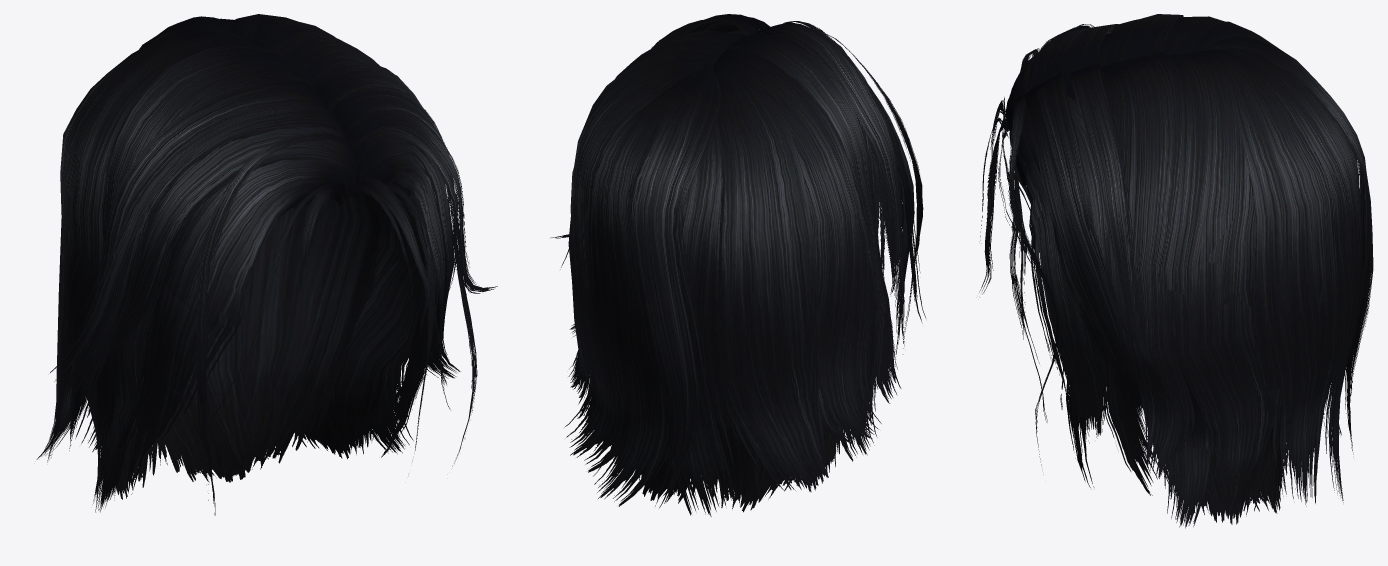
The model's file is haircut.fbx.
3 views of the same model, side by side, from view 1: azimuth 30°, elevation 25°; view 2: azimuth 150°, elevation 25°; view 3: azimuth 270°, elevation 25° (orthographic). The views are drawn at different scales.
Visible parts, largest first — view 1: Head; view 2: Head; view 3: Head.
Part boxes in pixels (x1,y1,x2,y2): Head: [36, 14, 497, 515]; Head: [550, 14, 926, 516]; Head: [979, 14, 1373, 528].
Bounding box in the file's own units: 0.281 × 0.2959 × 0.2287.
1 material, 1 textured.
